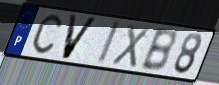8: (172, 31, 204, 76)
B: (137, 28, 177, 74)
C: (31, 13, 63, 56)
I: (95, 19, 123, 66)
V: (60, 13, 100, 61)
X: (109, 23, 152, 70)
